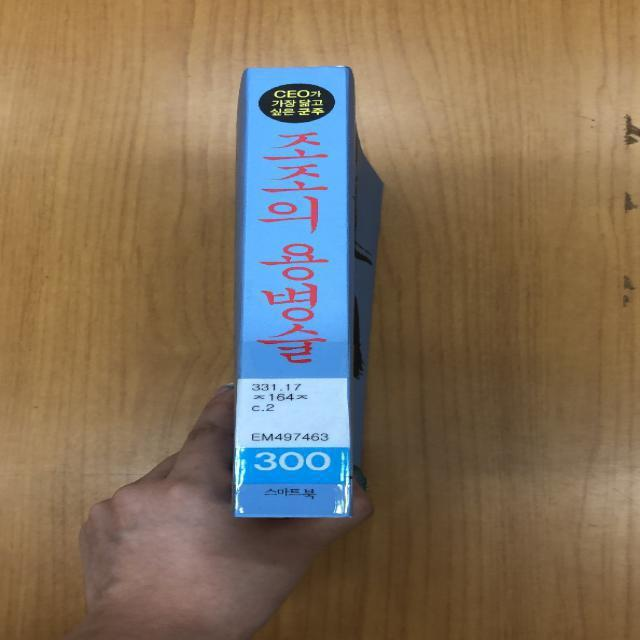Wornout: (321, 61, 358, 71)
